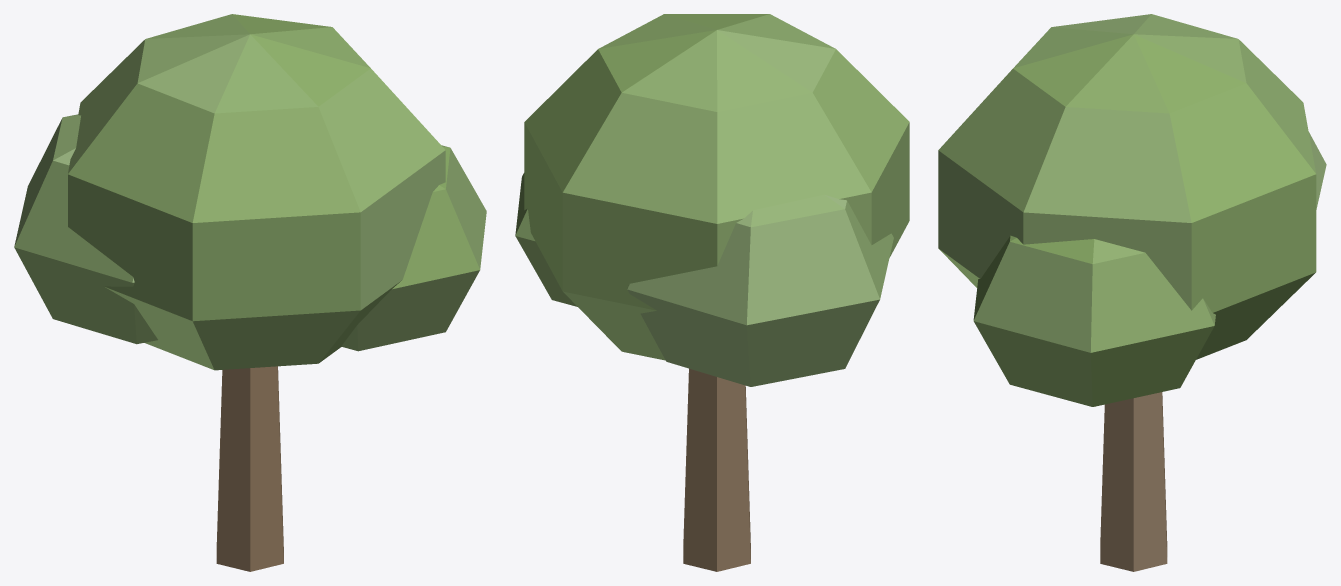
File: oak2.glb
The picture shows the model from 3 angles, left to right: view 1: azimuth 30°, elevation 25°; view 2: azimuth 150°, elevation 25°; view 3: azimuth 270°, elevation 25°; orthographic projection.
Visible parts, largest first — view 1: oak22; view 2: oak22; view 3: oak22.
Boxes of the visible parts, box(x1,y1,x2,y2) form: oak22: box(14, 14, 486, 571); oak22: box(515, 14, 909, 571); oak22: box(938, 14, 1326, 571).
Bounding box in the file's own units: 3.94 × 4.74 × 3.2.
